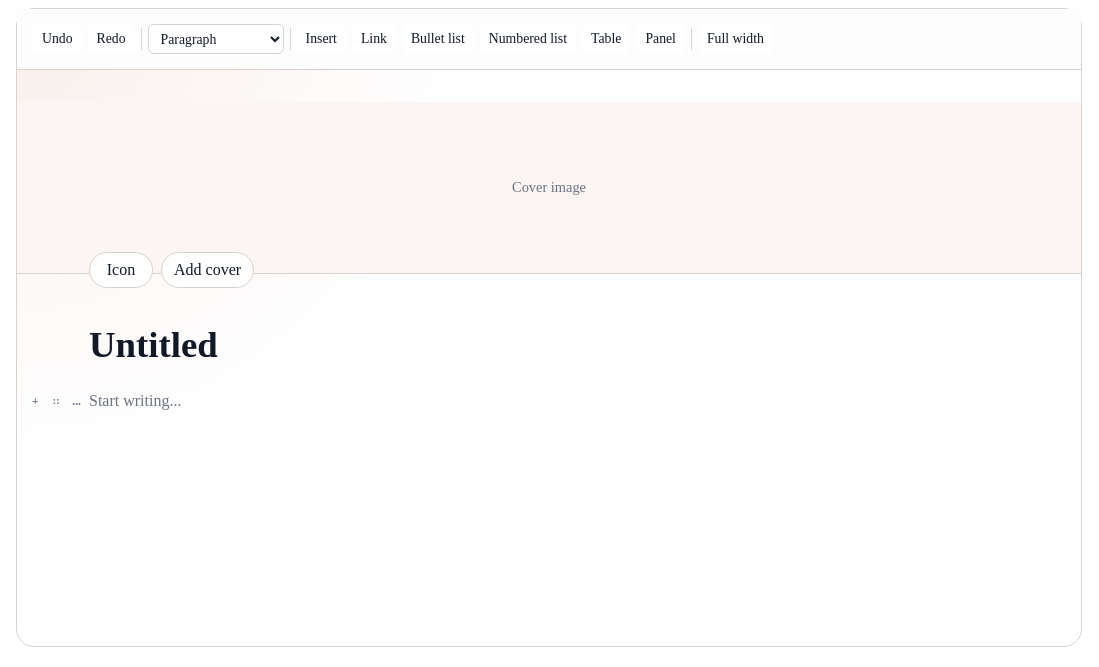
StellaEditor › converts markdown-like authoring shortcuts
In the field with placeholder "Start writing...": (549, 402) [89,385,1009,419], type "## "
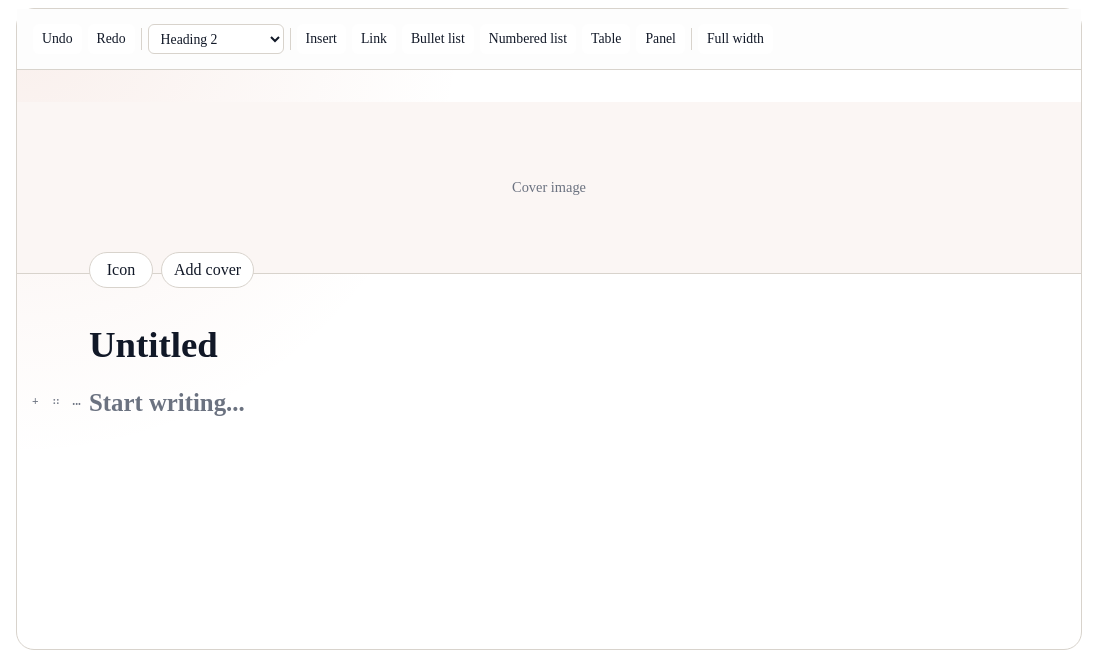
expect the dropdown named "Block style" shows "Heading 2": met, box [148,24,284,54]
